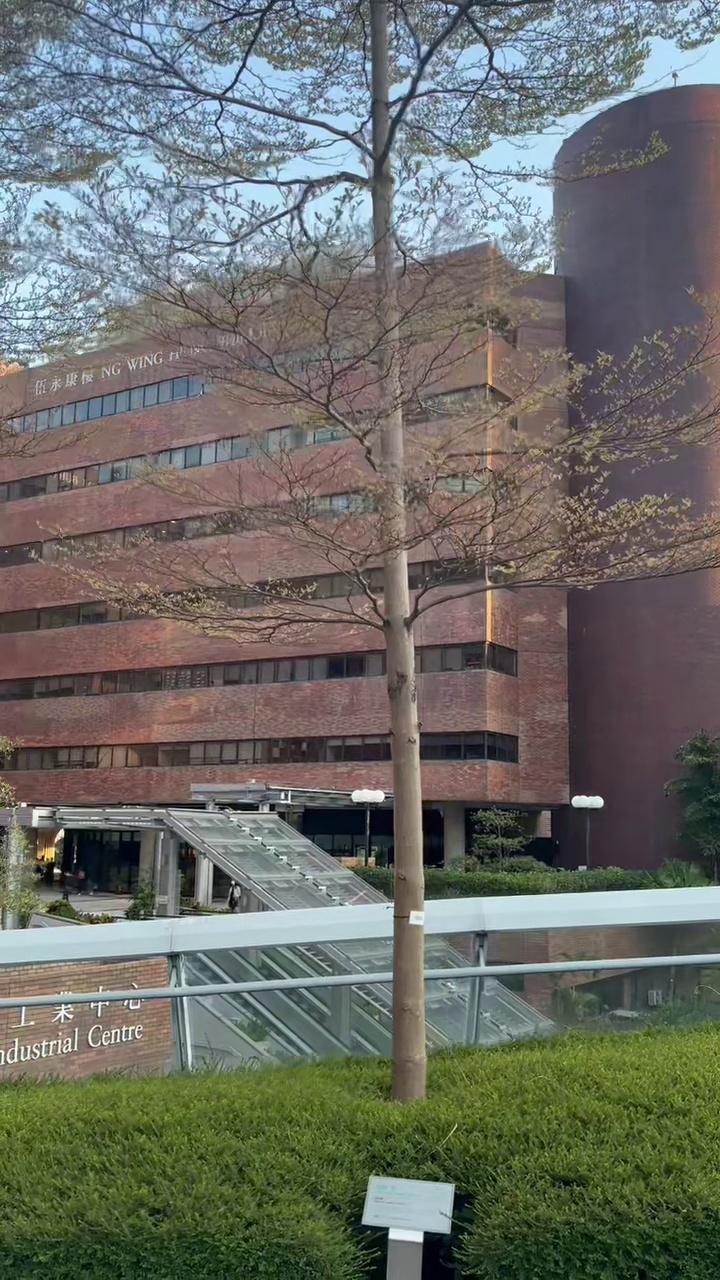Terminalia mantaly: (3, 0, 719, 1098)
